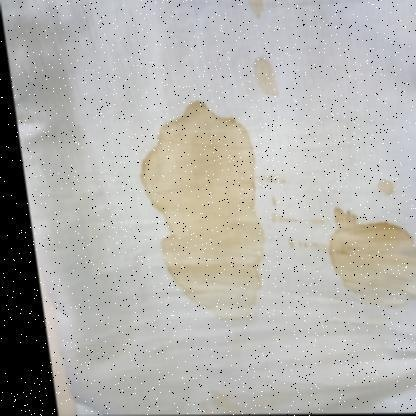coffee: (165, 124, 245, 282), (334, 229, 413, 299)
